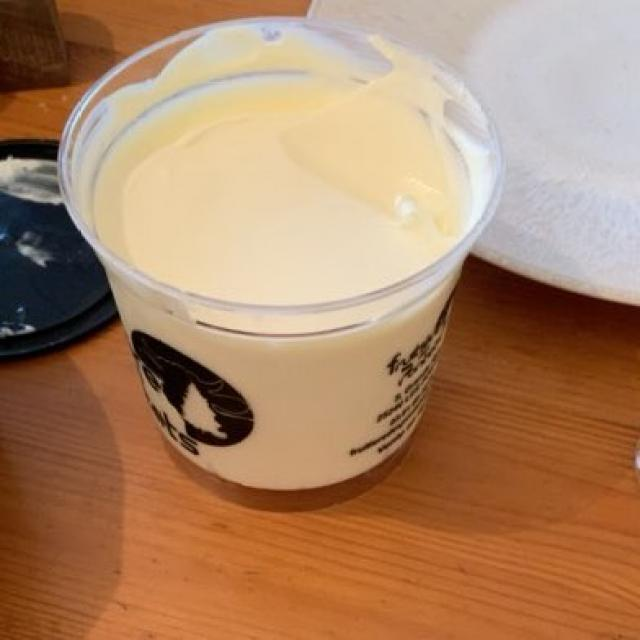sour-cream: (96, 84, 473, 333)
